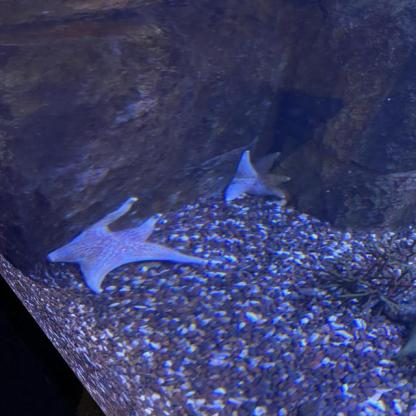starfish: (48, 197, 208, 293), (224, 150, 291, 200)
